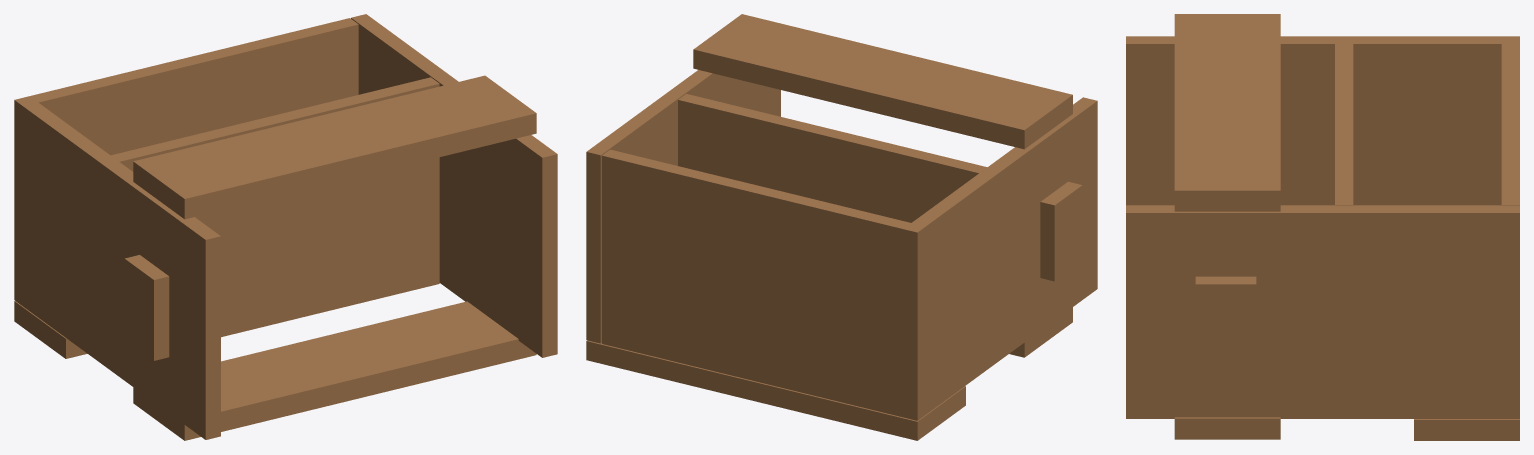
The model's file is tinker.obj.
3 views of the same model, side by side, from view 1: azimuth 30°, elevation 25°; view 2: azimuth 150°, elevation 25°; view 3: azimuth 270°, elevation 25° (orthographic). The views are drawn at different scales.
Parts seen in each view (by area): view 1: obj_0; view 2: obj_0; view 3: obj_0.
Part boxes in pixels (x1,y1,x2,y2): obj_0: [14, 14, 557, 440]; obj_0: [586, 14, 1097, 440]; obj_0: [1126, 14, 1519, 440].
Size of the model in its own units: 152 by 91.63 by 130.
